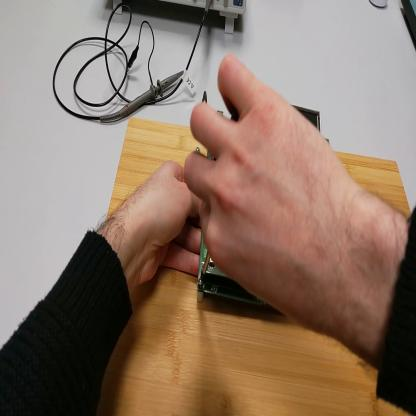hand: (186, 53, 362, 325), (119, 157, 205, 294)
low voltage board: (200, 105, 323, 314)
oscilloscope: (115, 1, 248, 35)
oscilloscope probe tip: (102, 69, 184, 123)
screwdriver-: (202, 249, 213, 274)
welder station: (402, 1, 416, 49)
working area: (98, 117, 413, 415)
